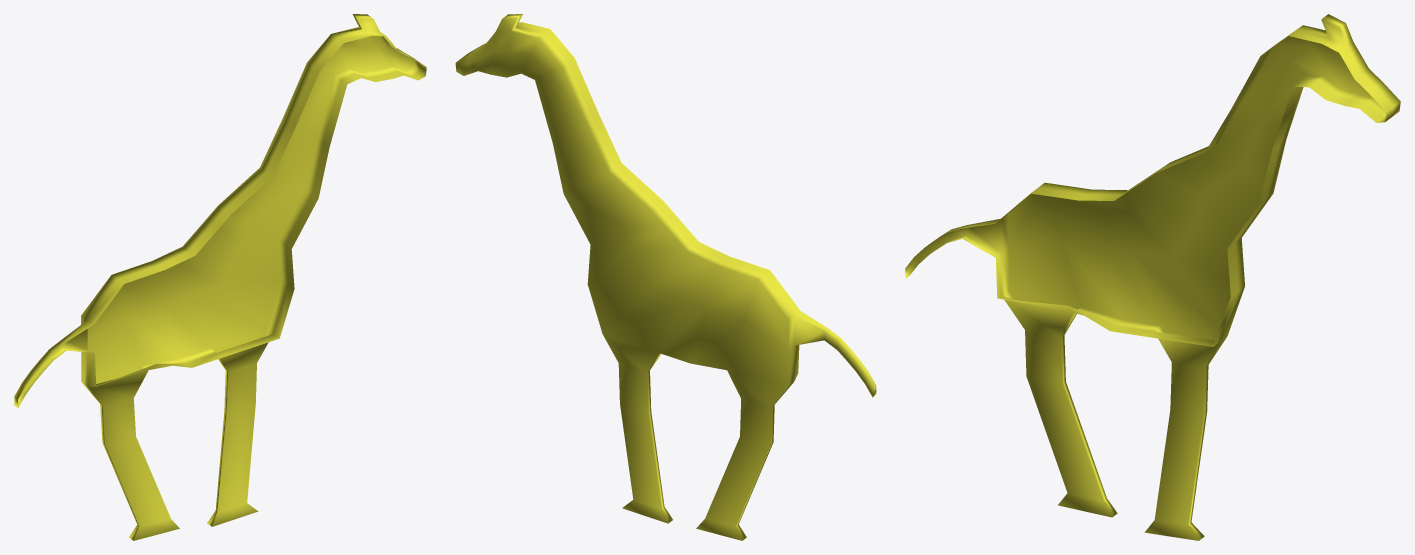
File: giraffe.glb
3 renders of one model, left to right at view 1: azimuth 30°, elevation 25°; view 2: azimuth 150°, elevation 25°; view 3: azimuth 330°, elevation 25°, orthographic. The views are drawn at different scales.
Parts seen in each view (by area): view 1: Plane; view 2: Plane; view 3: Plane.
Part boxes in pixels (x1,y1,x2,y2): Plane: (14, 14, 426, 540); Plane: (455, 14, 876, 540); Plane: (905, 14, 1400, 540).
Bounding box in the file's own units: 2.12 × 2.34 × 0.1128.
